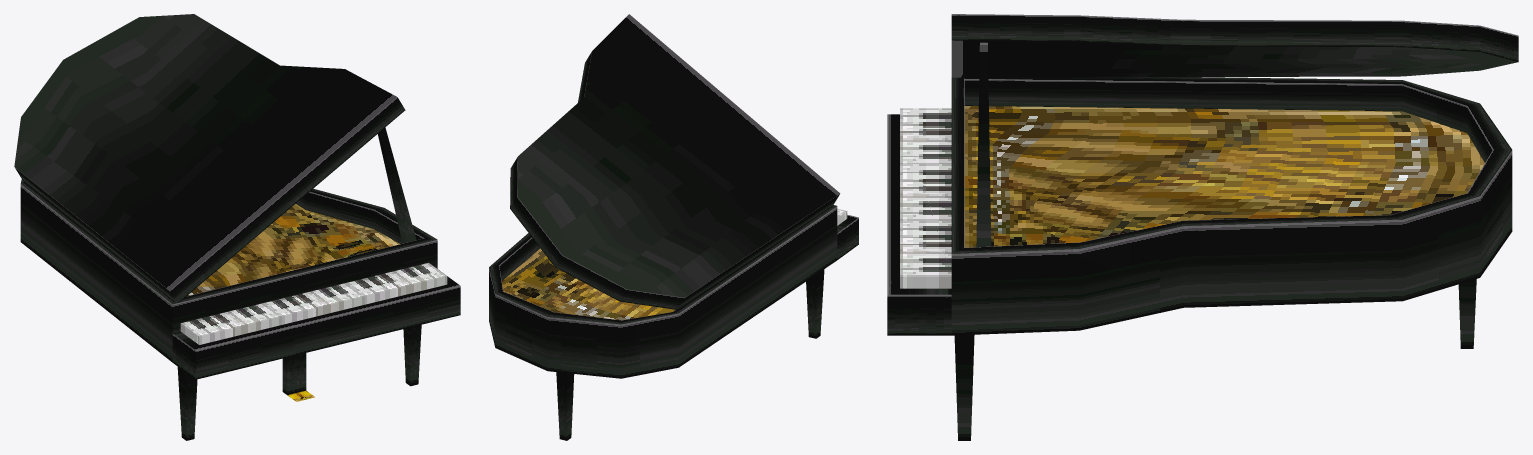
Rendered from o_piano1.glb.
3 views of the same model, side by side, from view 1: azimuth 30°, elevation 25°; view 2: azimuth 150°, elevation 25°; view 3: azimuth 270°, elevation 25° (orthographic). The views are drawn at different scales.
Parts seen in each view (by area): view 1: o_piano1; view 2: o_piano1; view 3: o_piano1.
Boxes of the visible parts, x1,y1,x2,y2 form: o_piano1: (14, 14, 460, 440); o_piano1: (489, 14, 858, 440); o_piano1: (887, 14, 1518, 440).
Bounding box in the file's own units: 335 × 352 × 490.
Materials: 4 (4 with a texture image).
